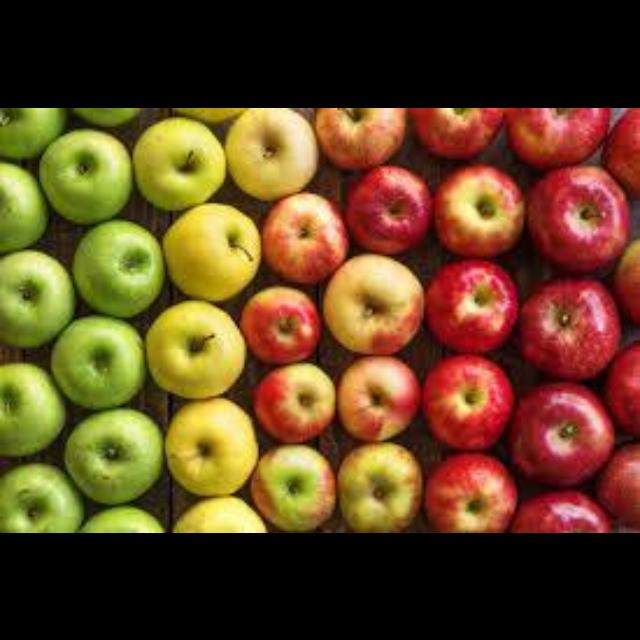apple: (526, 165, 628, 270), (510, 382, 612, 484), (519, 277, 619, 379), (144, 300, 244, 398), (321, 254, 421, 351), (63, 407, 161, 503), (163, 202, 258, 300), (72, 219, 163, 316), (51, 314, 144, 407), (165, 398, 256, 493), (421, 354, 512, 449), (433, 163, 524, 256), (426, 258, 517, 351), (40, 128, 130, 221), (133, 116, 223, 209), (226, 107, 317, 198), (261, 191, 347, 282), (344, 165, 431, 251), (337, 442, 421, 531), (424, 451, 517, 531), (251, 444, 333, 531), (0, 249, 72, 347), (337, 356, 419, 440), (505, 107, 610, 168), (254, 363, 333, 442), (240, 286, 319, 363), (0, 363, 63, 454), (314, 107, 405, 168), (0, 463, 81, 531), (410, 107, 503, 156), (0, 161, 47, 251), (510, 491, 610, 531), (596, 444, 638, 526), (0, 107, 65, 158), (600, 107, 638, 193), (172, 496, 265, 531), (605, 342, 638, 435), (79, 505, 161, 531), (614, 237, 638, 321)
